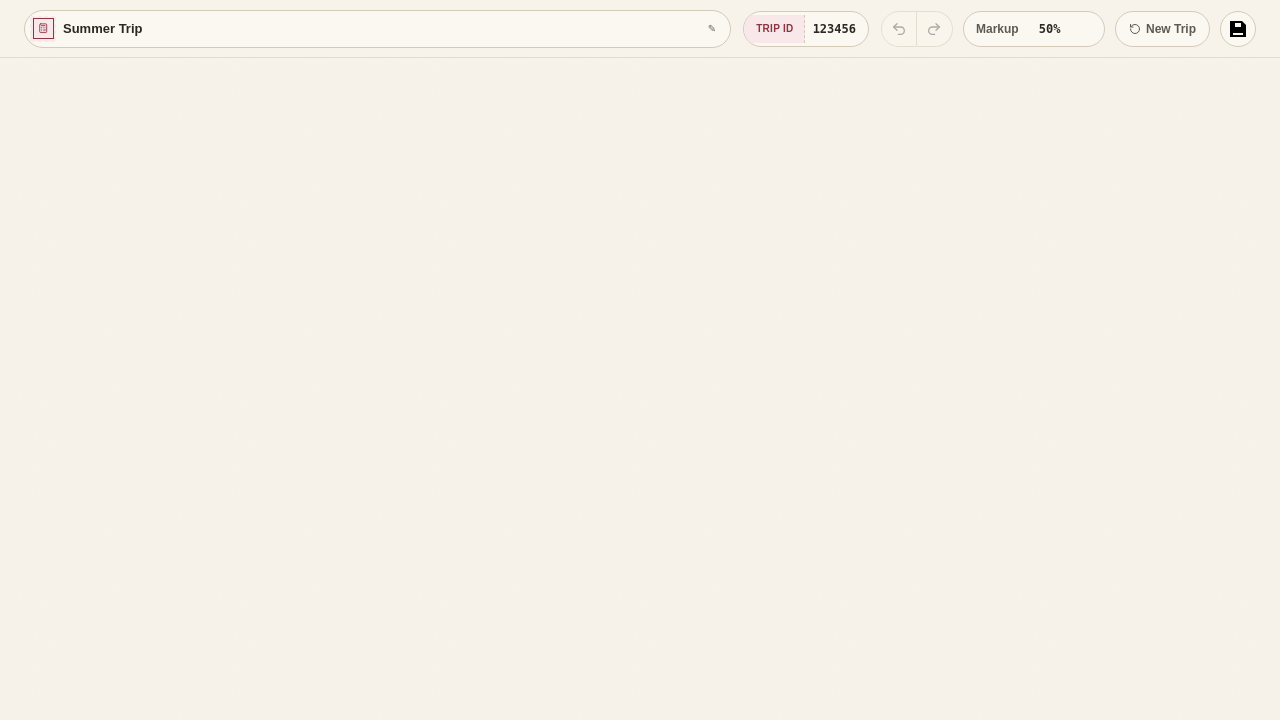
TripToolbar › identifies the last saved slot when the active snapshot has changed
This screenshot has width=1280, height=720.
Click the button with aria-label "Start new trip": [1162, 28] box [1115, 10, 1210, 46]
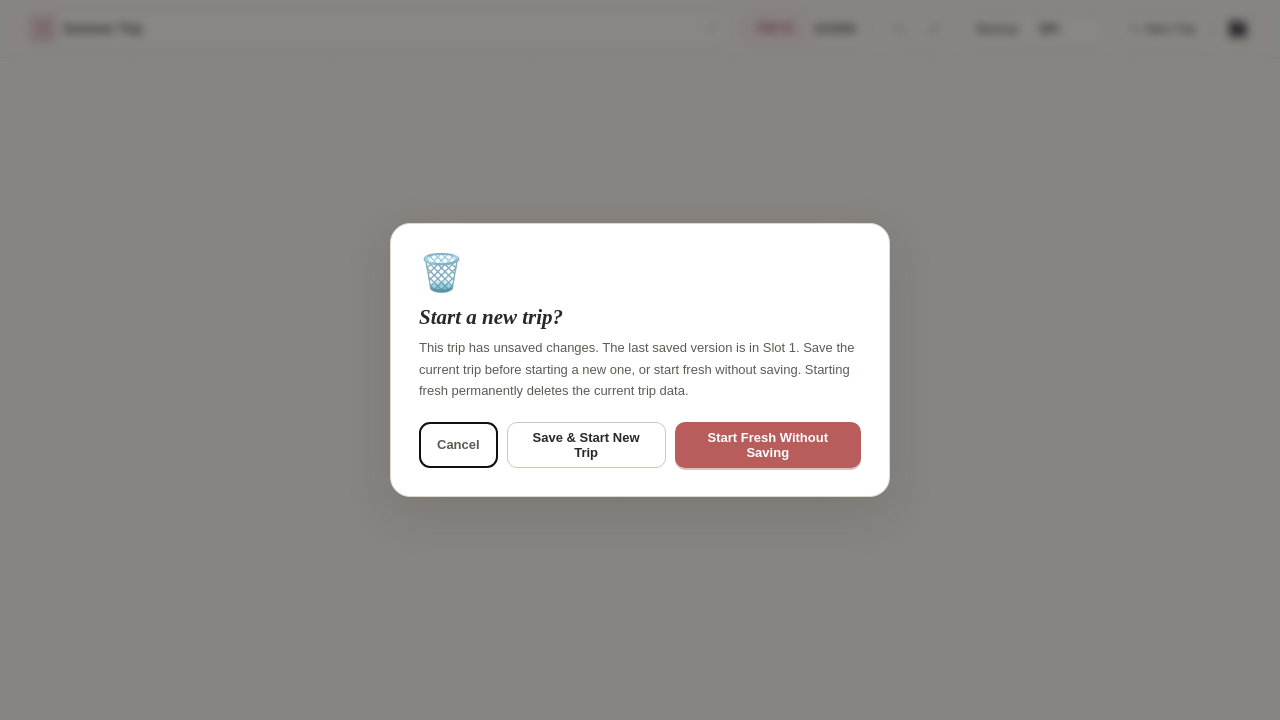
Result: the text "last saved version is in Slot 1" is shown at [419, 340, 854, 398]
